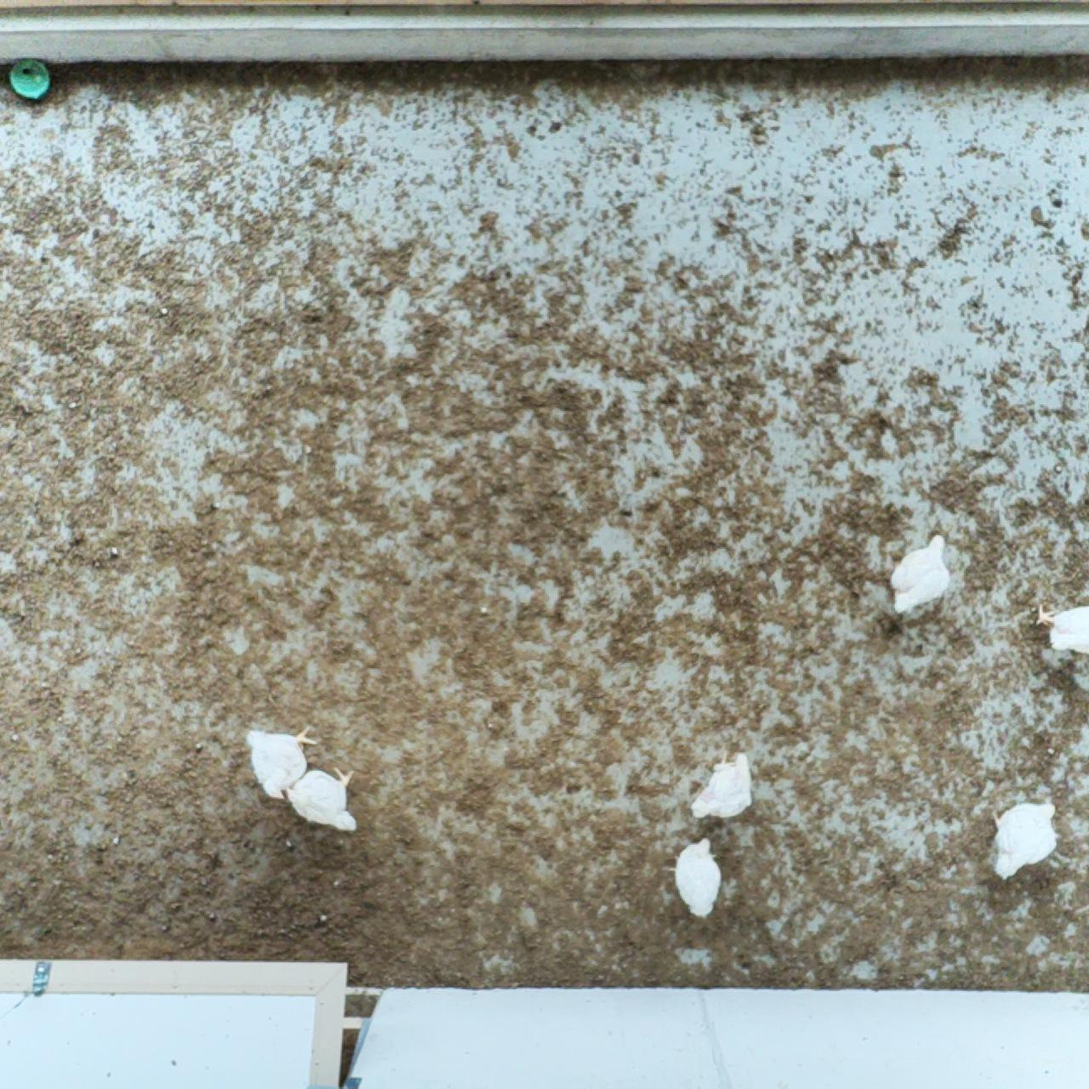chicken: (885, 528, 956, 617), (990, 796, 1065, 879), (246, 716, 319, 800), (281, 766, 361, 833), (673, 833, 728, 920), (686, 750, 753, 820), (1031, 594, 1089, 659)
